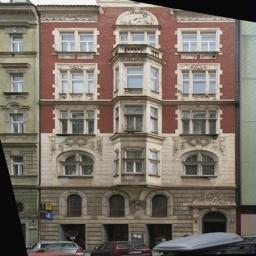building: (39, 0, 237, 237)
